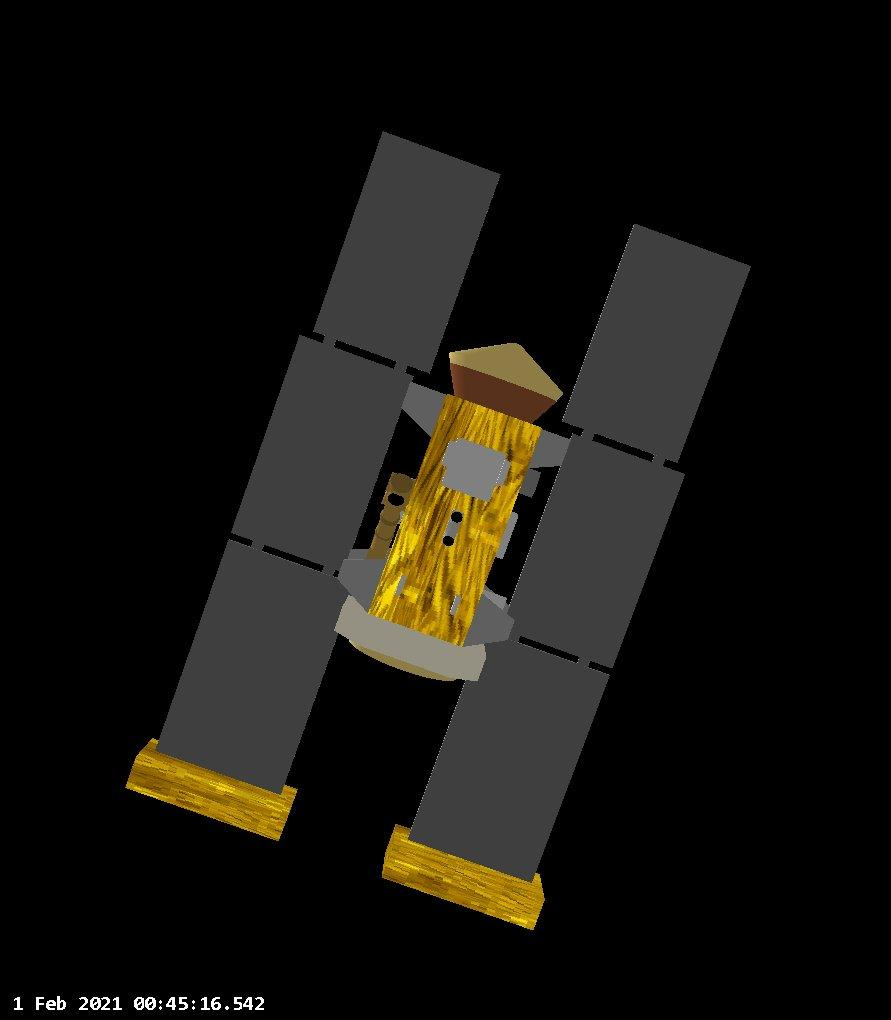antenna: (444, 332, 567, 425)
body: (342, 387, 547, 687)
solar: (373, 212, 754, 886), (152, 124, 504, 794)
